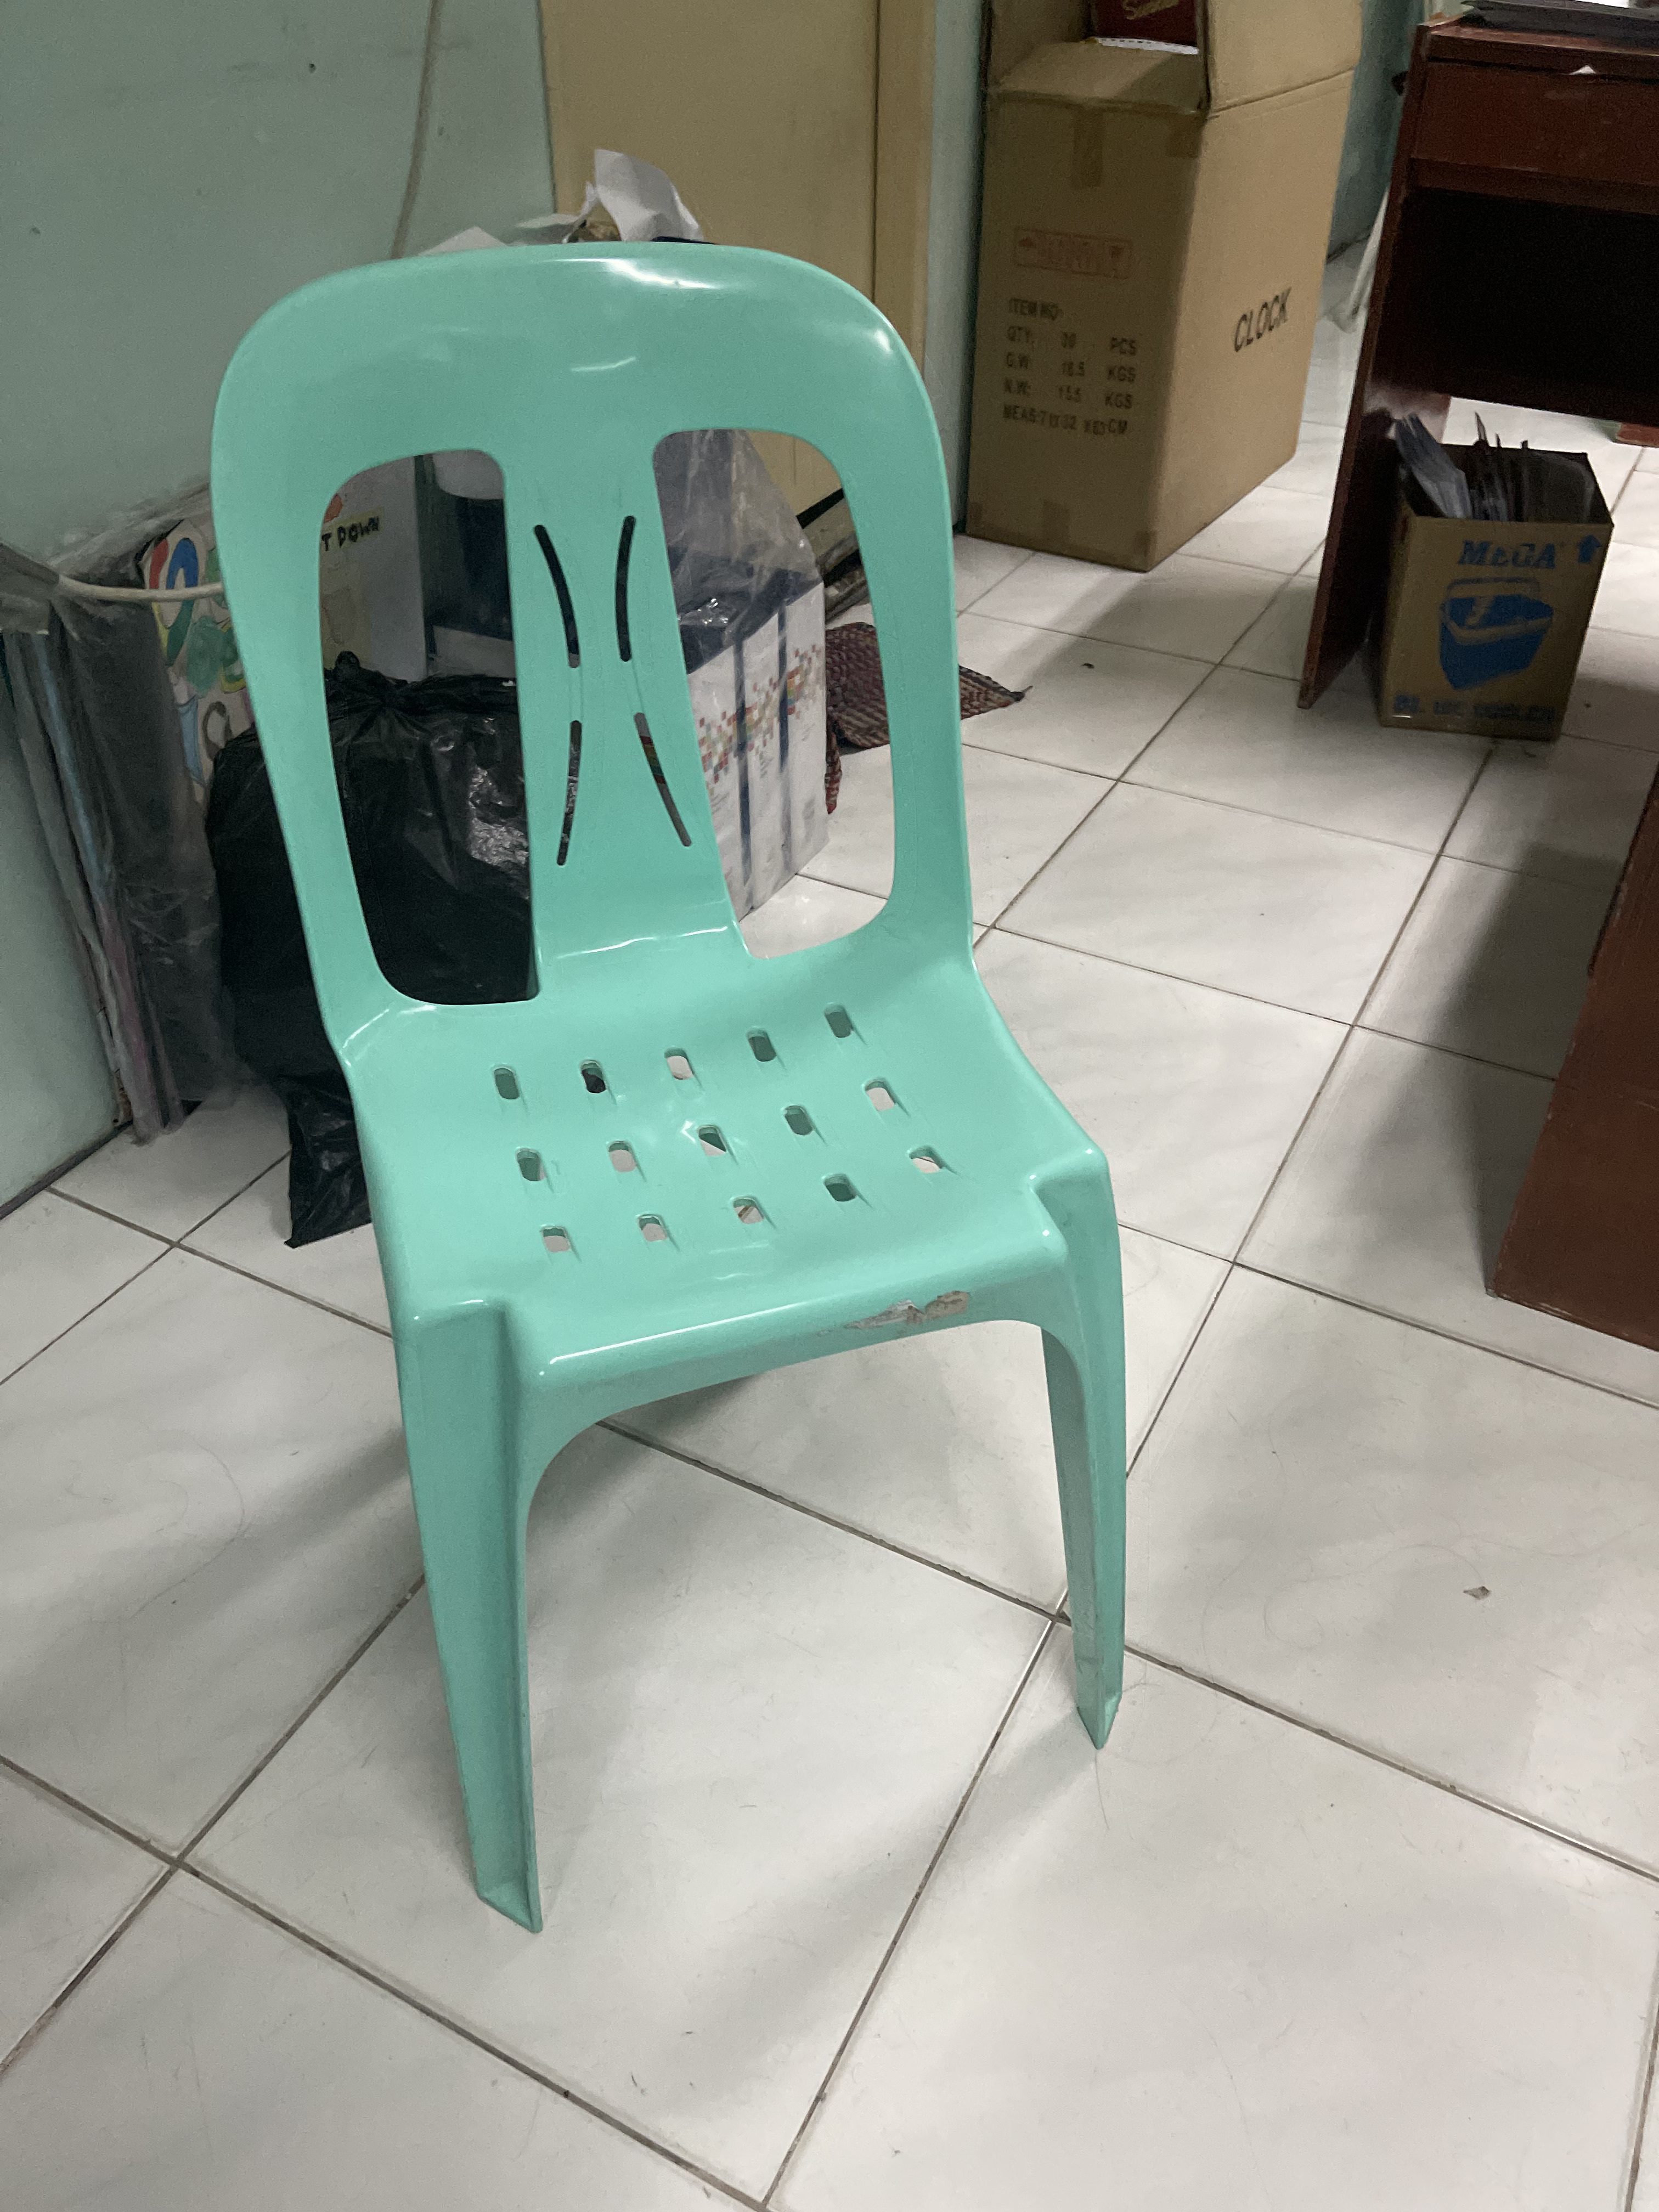chair2: (202, 237, 1154, 1944)
